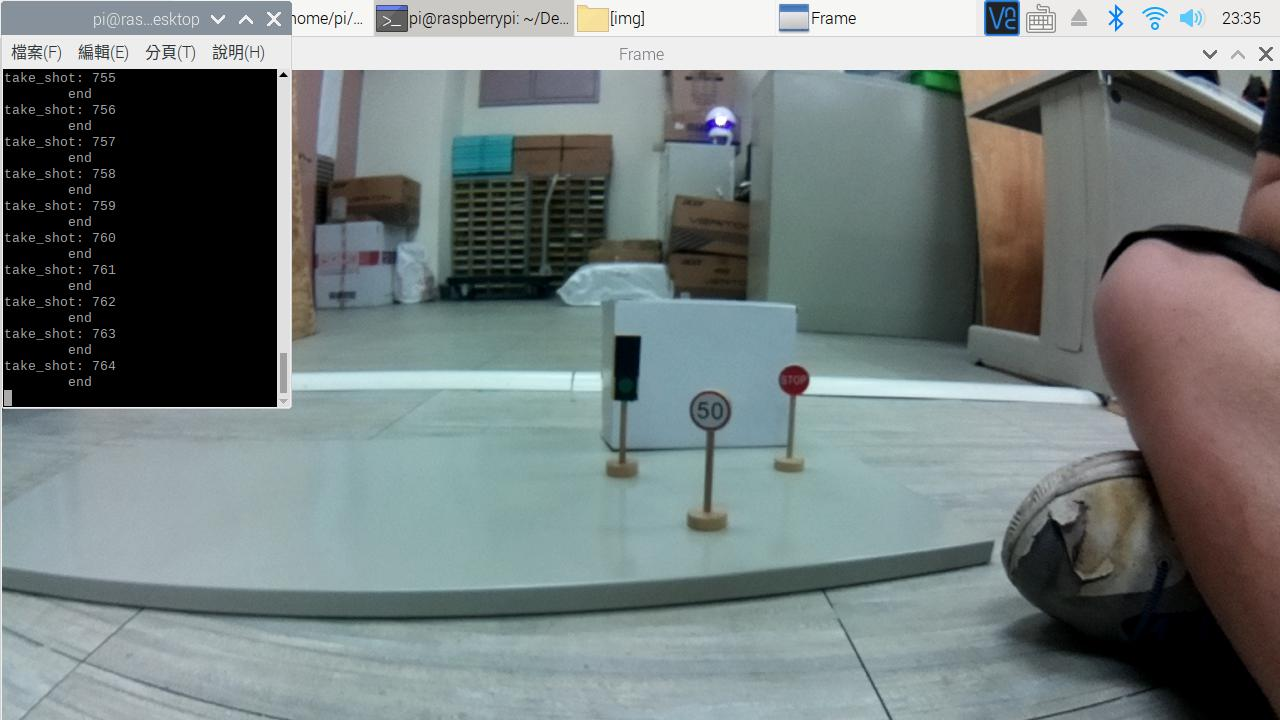Green: (608, 321, 652, 411)
Speed50: (689, 385, 735, 442)
Stop: (777, 362, 812, 402)
